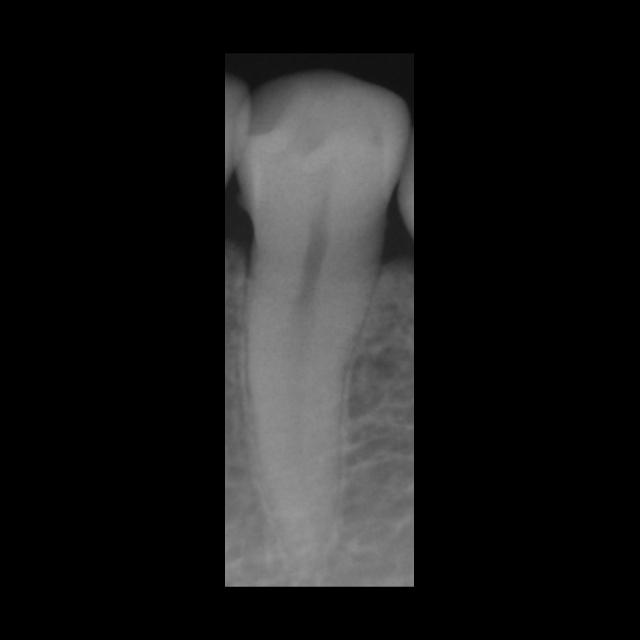tooth: (232, 75, 410, 564)
